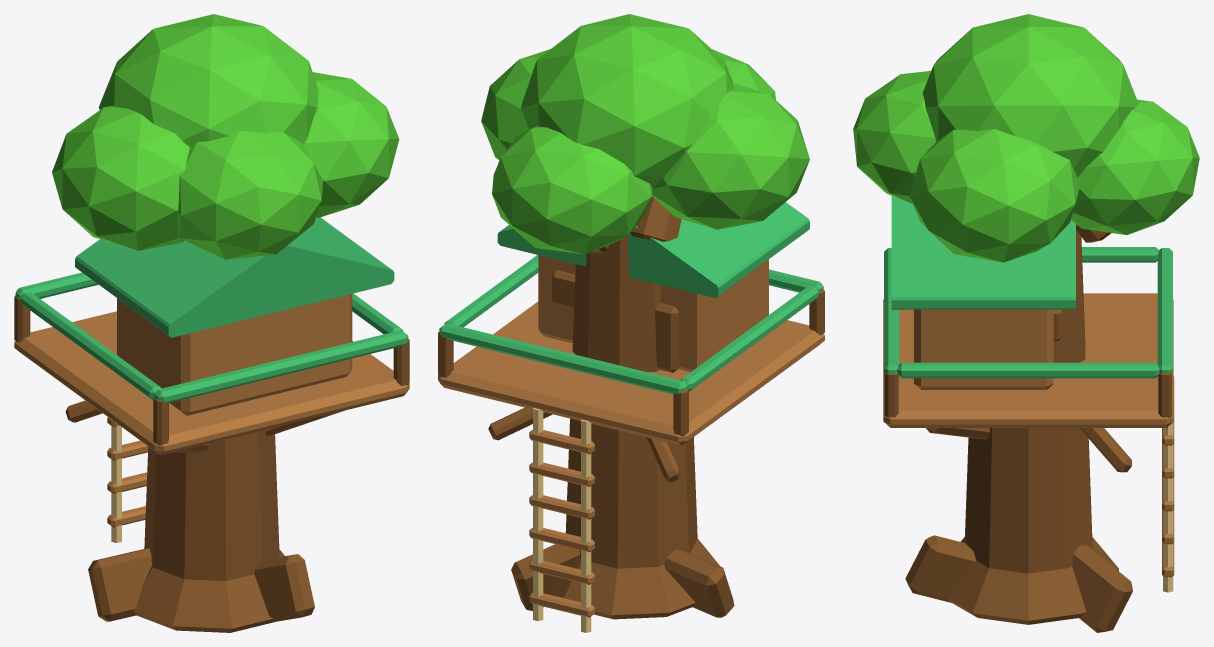
Rendered from Prop_ninja_village_TreeHouse.glb.
3 renders of one model, left to right at view 1: azimuth 30°, elevation 25°; view 2: azimuth 150°, elevation 25°; view 3: azimuth 270°, elevation 25°, orthographic. The views are drawn at different scales.
Parts seen in each view (by area): view 1: Canopy_5BD43A, Bark_8A5A2B, Wood_B5793F, LeafGreen_3FBF6A, Rope_F4D58A; view 2: Canopy_5BD43A, Bark_8A5A2B, Wood_B5793F, LeafGreen_3FBF6A, Rope_F4D58A; view 3: Canopy_5BD43A, Bark_8A5A2B, Wood_B5793F, LeafGreen_3FBF6A, Rope_F4D58A.
Boxes of the visible parts, x1,y1,x2,y2 form: Canopy_5BD43A: (52, 14, 399, 259); Bark_8A5A2B: (14, 295, 409, 632); Wood_B5793F: (14, 294, 409, 527); LeafGreen_3FBF6A: (15, 217, 408, 402); Rope_F4D58A: (111, 425, 121, 542); Canopy_5BD43A: (481, 14, 809, 254); Bark_8A5A2B: (438, 197, 824, 619); Wood_B5793F: (438, 255, 824, 617); LeafGreen_3FBF6A: (439, 202, 823, 394); Rope_F4D58A: (533, 408, 591, 632); Canopy_5BD43A: (853, 14, 1199, 262); Bark_8A5A2B: (884, 224, 1172, 632); Wood_B5793F: (883, 293, 1174, 577); LeafGreen_3FBF6A: (884, 195, 1172, 378); Rope_F4D58A: (1163, 422, 1173, 592).
Size of the model in its own units: 12.62 by 22.85 by 12.42.
